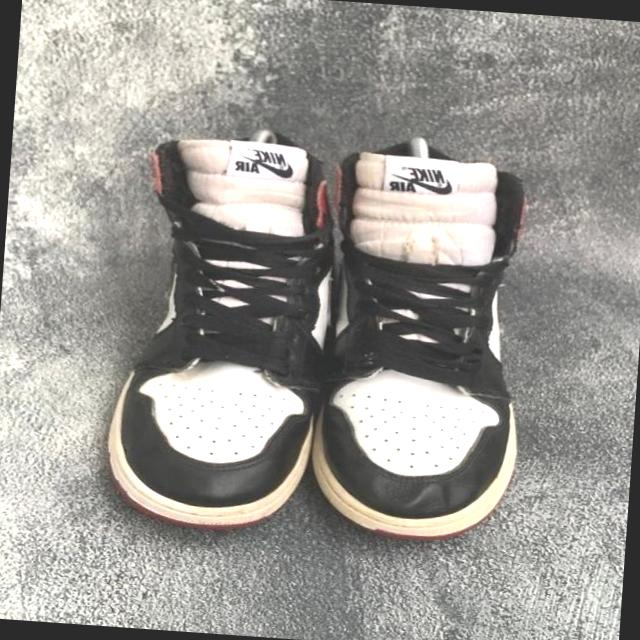nike_fake_jordan: (94, 121, 350, 540), (312, 132, 530, 544)
